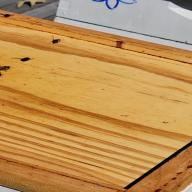Bee: (39, 34, 65, 48)
